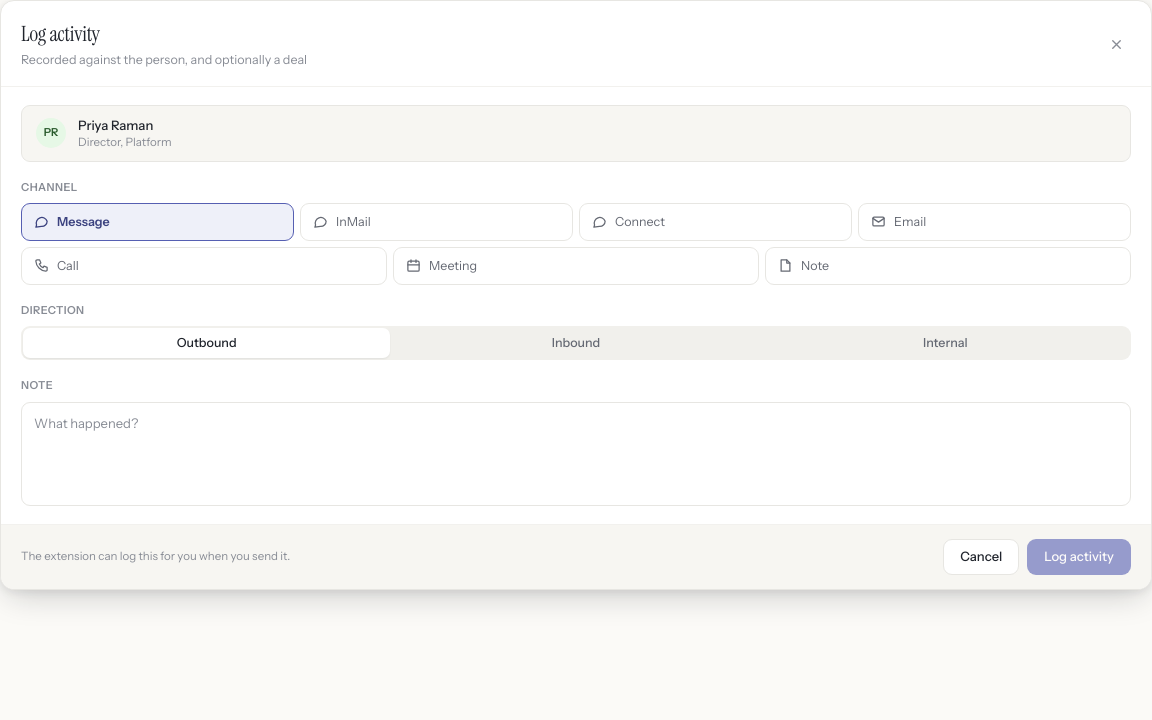
it: ActivityComposer › says the extension can log the LinkedIn channels
Check: the text "The extension can log this for you when you send it." is shown, box [21, 549, 290, 565]
Click the button "Call" at (42, 266), box [21, 247, 387, 285]
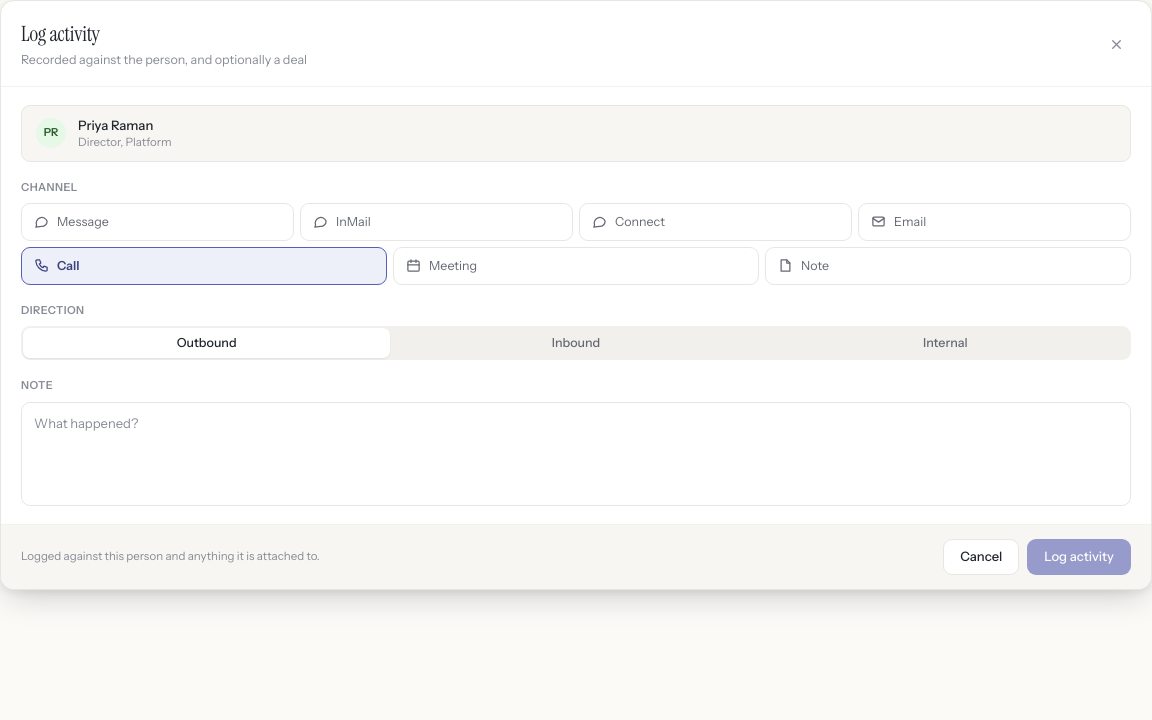
Check: the text "extension can log this for you" is gone
